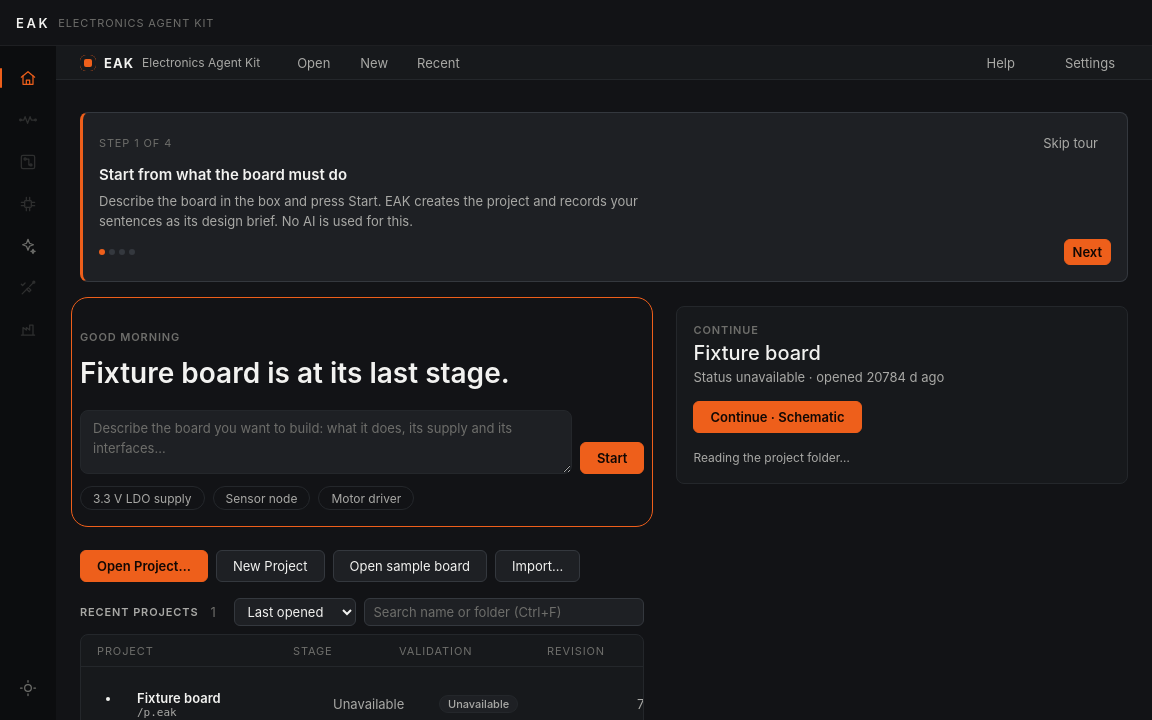
design manager › clicking a component selects it and zooms the schematic to it
Click the text "Fixture board" below "Validation": (179, 698) 137,690 -> 221,706
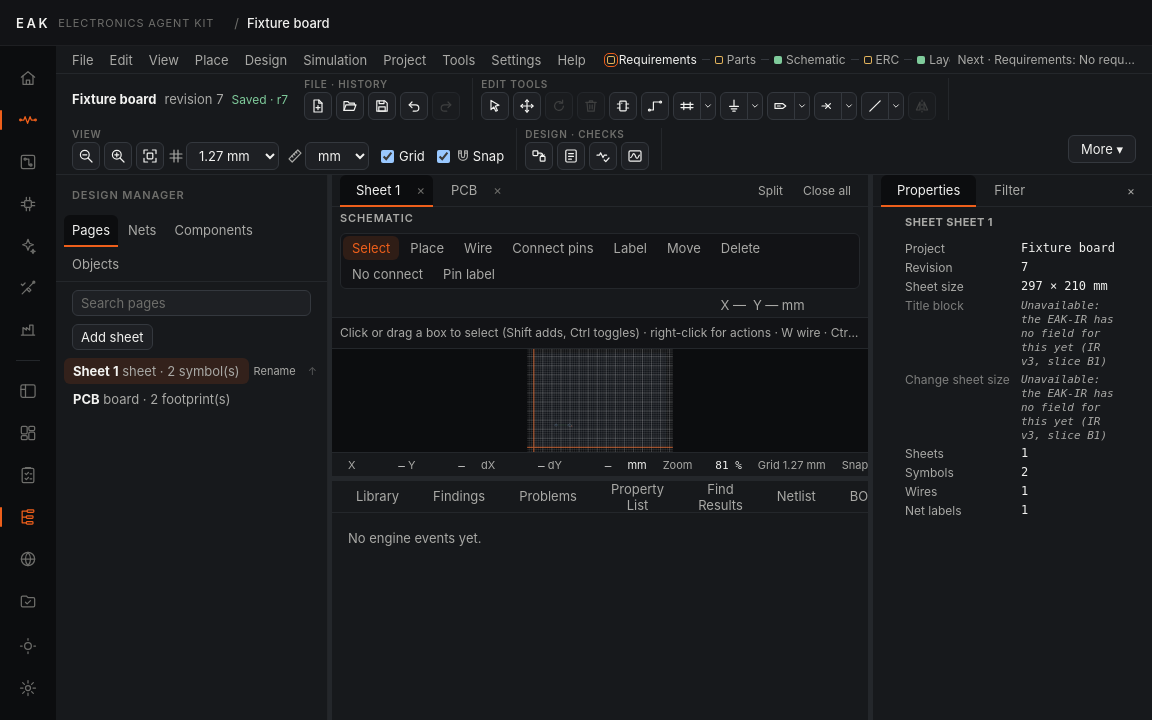
Now the picture named "Schematic canvas" is shown, box 332,349 -> 868,452
Click the tab "Components": (214, 231) 166,215 -> 261,247
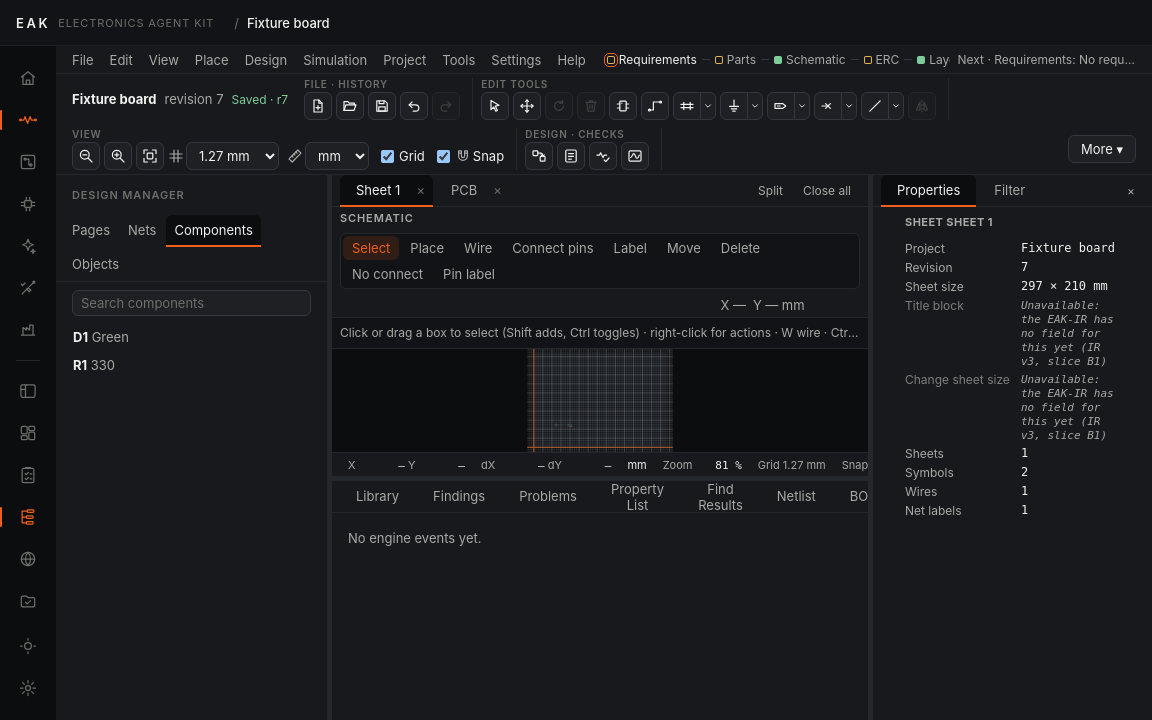
Click the button "D1 Green": (192, 337) 64,324 -> 319,350
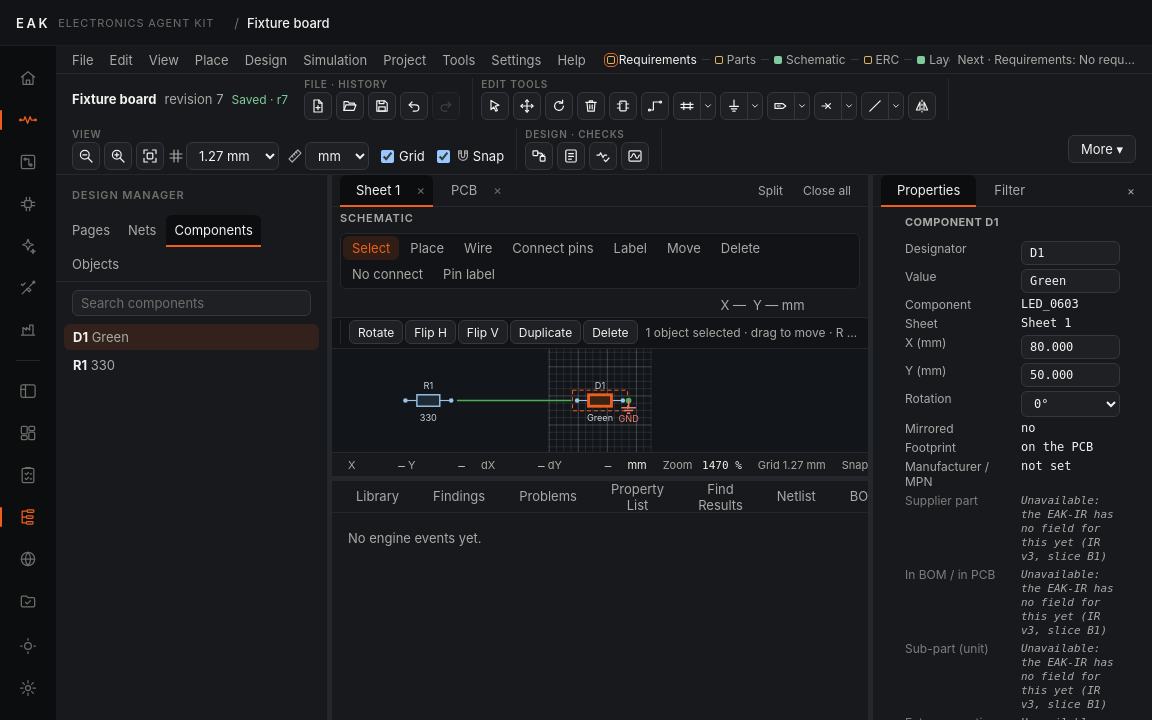
Now the field showing "Green" is shown, box 1021,269 -> 1120,293
